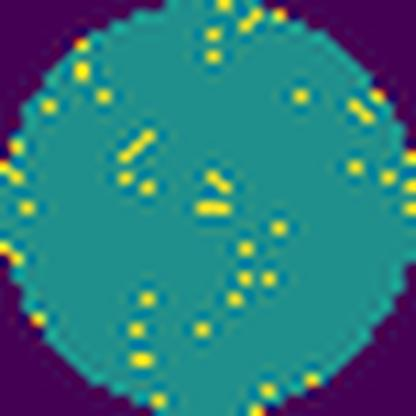Center: (186, 166, 244, 223)
